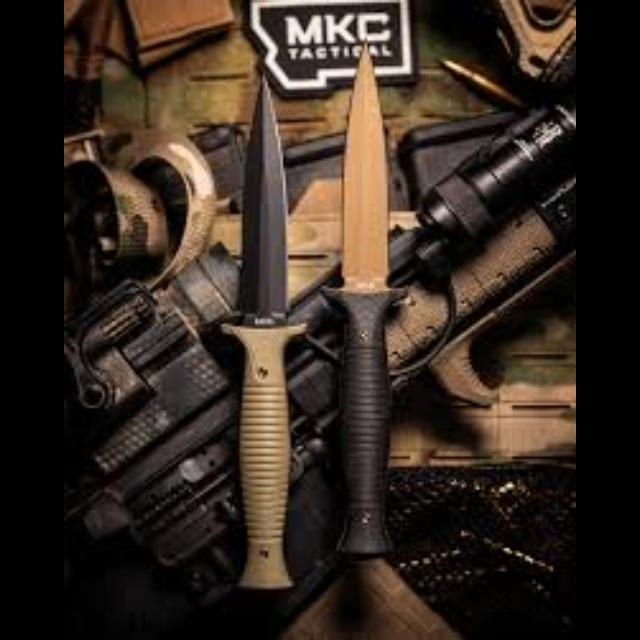Knife: (222, 67, 302, 589), (332, 38, 398, 558)
